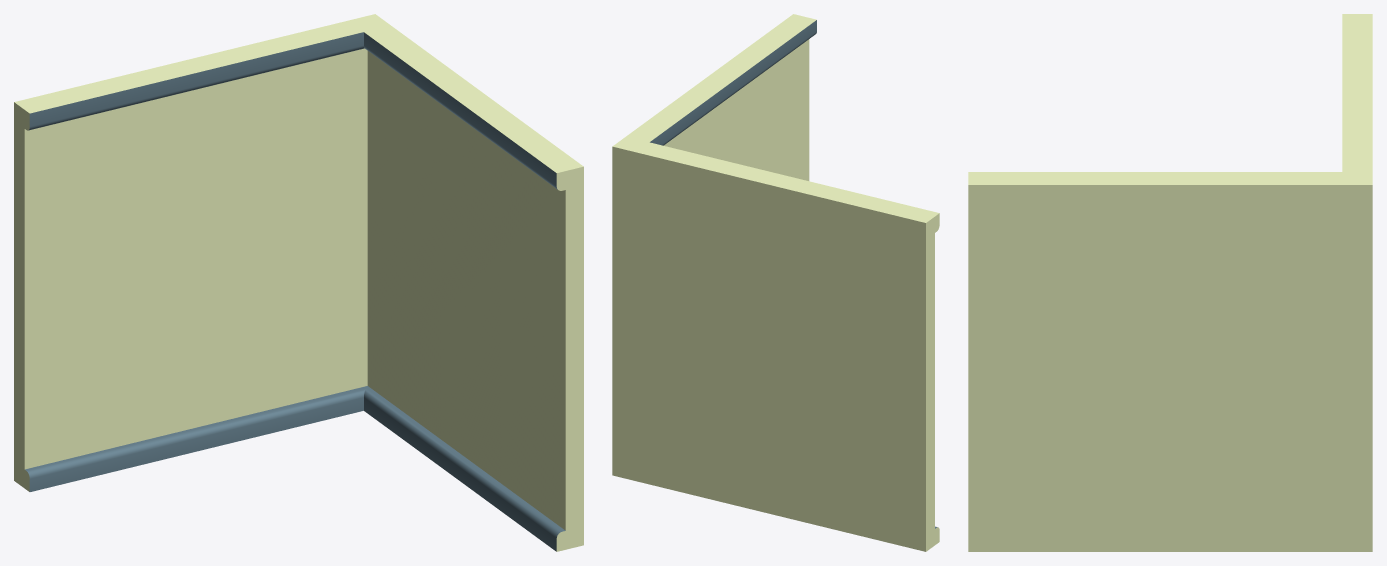
The model's file is Modular_01_Corner_02.fbx.
The picture shows the model from 3 angles, left to right: view 1: azimuth 30°, elevation 25°; view 2: azimuth 150°, elevation 25°; view 3: azimuth 270°, elevation 25°; orthographic projection. The views are drawn at different scales.
Parts seen in each view (by area): view 1: Modular_01_Corner_02; view 2: Modular_01_Corner_02; view 3: Modular_01_Corner_02.
Part boxes in pixels (x1=…): Modular_01_Corner_02: x1=14, y1=14, x2=583, y2=551; Modular_01_Corner_02: x1=612, y1=14, x2=939, y2=551; Modular_01_Corner_02: x1=968, y1=14, x2=1372, y2=551.
Bounding box in the file's own units: 200 × 200 × 200.
